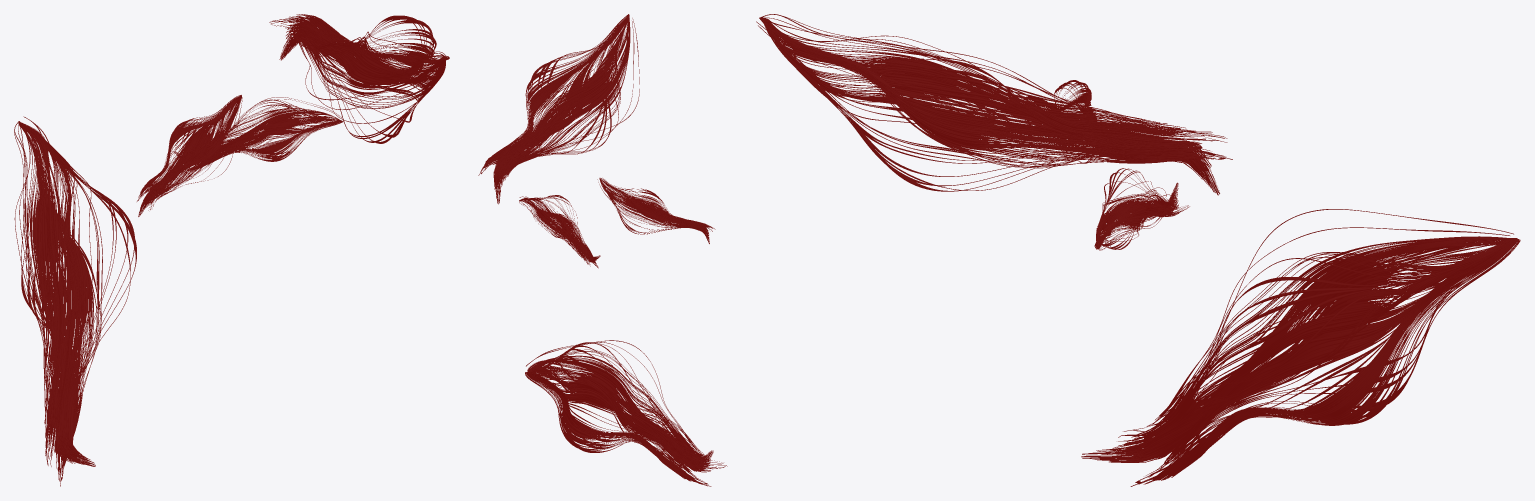
The model's file is muscles.glb.
The picture shows the model from 3 angles, left to right: view 1: azimuth 30°, elevation 25°; view 2: azimuth 150°, elevation 25°; view 3: azimuth 270°, elevation 25°; orthographic projection. The views are drawn at different scales.
Parts seen in each view (by area): view 1: muscle.003, muscle.002, muscle, muscle.001; view 2: muscle.003, muscle.002, muscle.001, muscle; view 3: muscle.003, muscle.002, muscle, muscle.001.
Boxes of the visible parts, bbox=[...] form: muscle.003: bbox=[14, 116, 136, 486]; muscle.002: bbox=[269, 14, 449, 143]; muscle: bbox=[174, 97, 343, 171]; muscle.001: bbox=[137, 95, 242, 216]; muscle.003: bbox=[525, 340, 727, 486]; muscle.002: bbox=[478, 14, 639, 204]; muscle.001: bbox=[597, 178, 715, 243]; muscle: bbox=[519, 195, 600, 268]; muscle.003: bbox=[1081, 209, 1520, 486]; muscle.002: bbox=[756, 14, 1232, 195]; muscle: bbox=[1094, 168, 1189, 250]; muscle.001: bbox=[1021, 80, 1100, 163].
Bounding box in the file's own units: 284 × 398 × 435.
